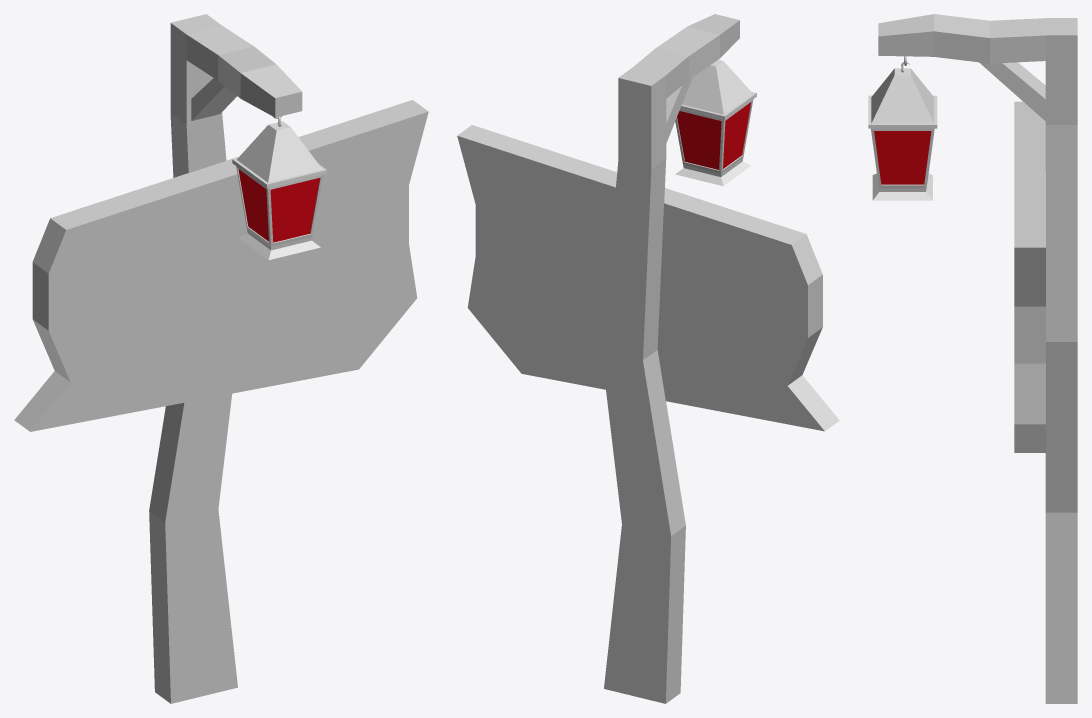
The model's file is Sign2.fbx.
3 views of the same model, side by side, from view 1: azimuth 30°, elevation 25°; view 2: azimuth 150°, elevation 25°; view 3: azimuth 270°, elevation 25° (orthographic). The views are drawn at different scales.
Visible parts, largest first — view 1: Cube.035, Cube.036; view 2: Cube.035, Cube.036; view 3: Cube.035, Cube.036.
Part boxes in pixels (x1=…): Cube.035: x1=14, y1=14, x2=428, y2=703; Cube.036: x1=232, y1=116, x2=326, y2=260; Cube.035: x1=457, y1=14, x2=839, y2=703; Cube.036: x1=675, y1=60, x2=756, y2=186; Cube.035: x1=878, y1=14, x2=1077, y2=703; Cube.036: x1=868, y1=56, x2=937, y2=200.
Size of the model in its own units: 203 by 325 by 92.94.
